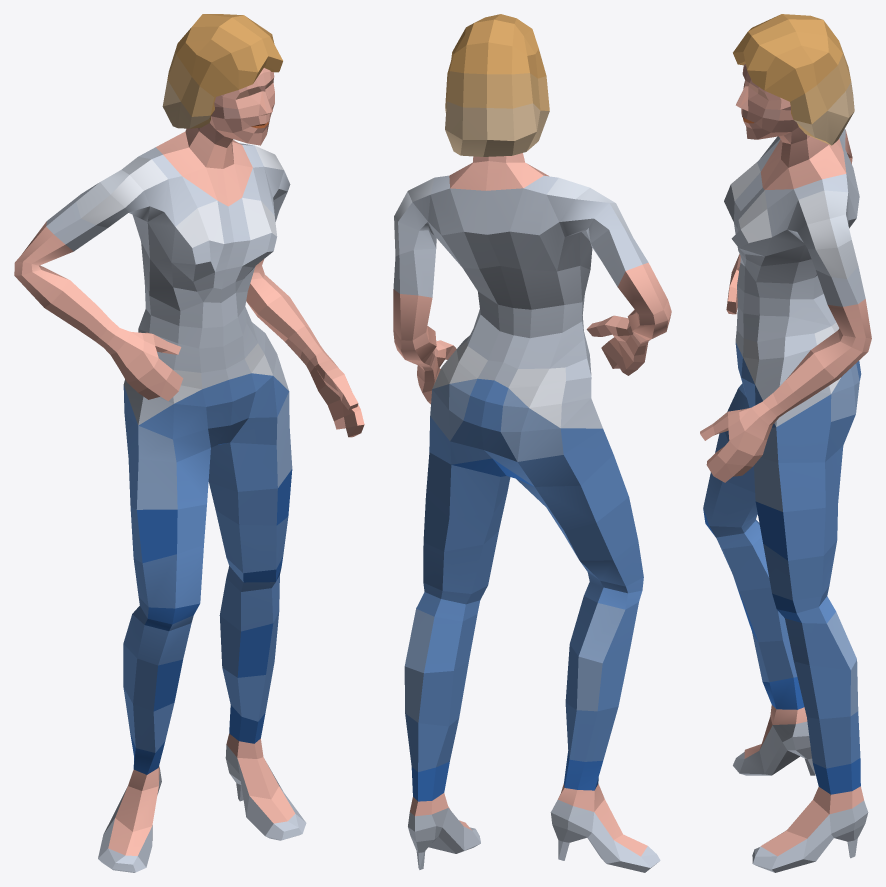
File: woman-standing.glb
3 renders of one model, left to right at view 1: azimuth 30°, elevation 25°; view 2: azimuth 150°, elevation 25°; view 3: azimuth 270°, elevation 25°, orthographic. The views are drawn at different scales.
Visible parts, largest first — view 1: woman-standing; view 2: woman-standing; view 3: woman-standing.
Boxes of the visible parts, x1,y1,x2,y2 form: woman-standing: (14, 14, 364, 872); woman-standing: (393, 14, 671, 872); woman-standing: (700, 14, 871, 872).
Size of the model in its own units: 0.6051 by 1.65 by 0.3111.
1 material, 1 textured.
